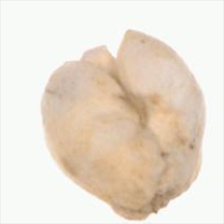L3: (64, 28, 130, 83)
L4: (41, 29, 205, 221)
